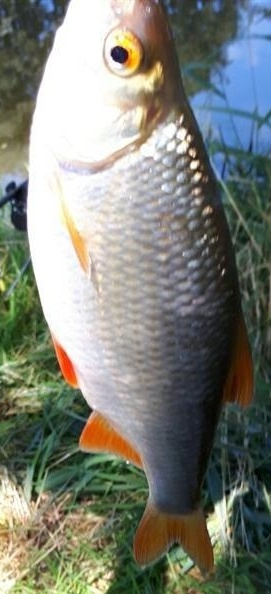Rutilus rutilus: (20, 1, 251, 574)
